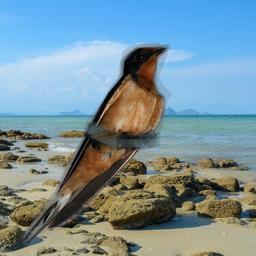Swallow: (16, 41, 172, 245)
